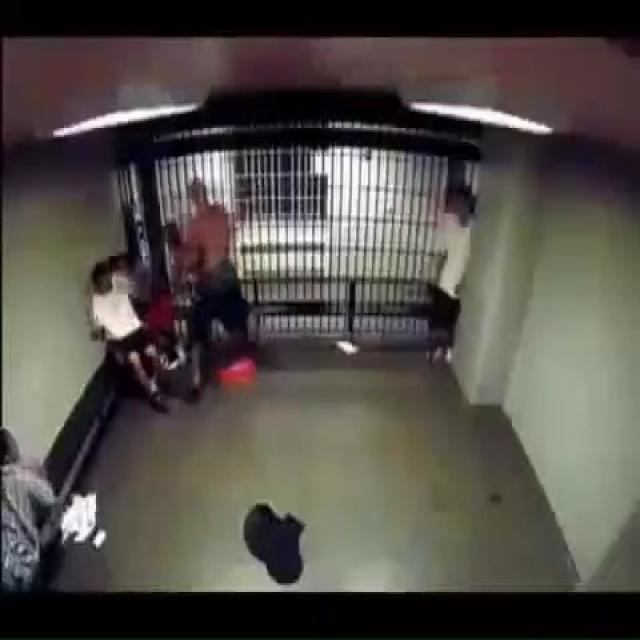fight: (132, 192, 287, 385)
